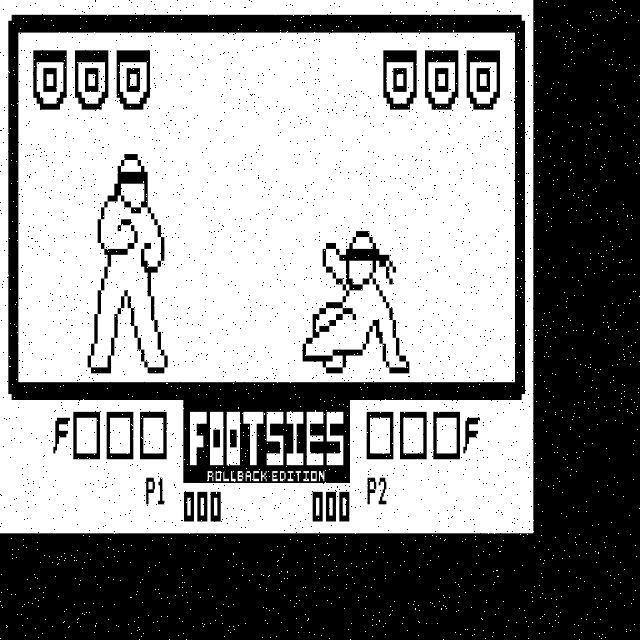Idle: (86, 151, 168, 376)
Kick: (299, 223, 411, 381)
